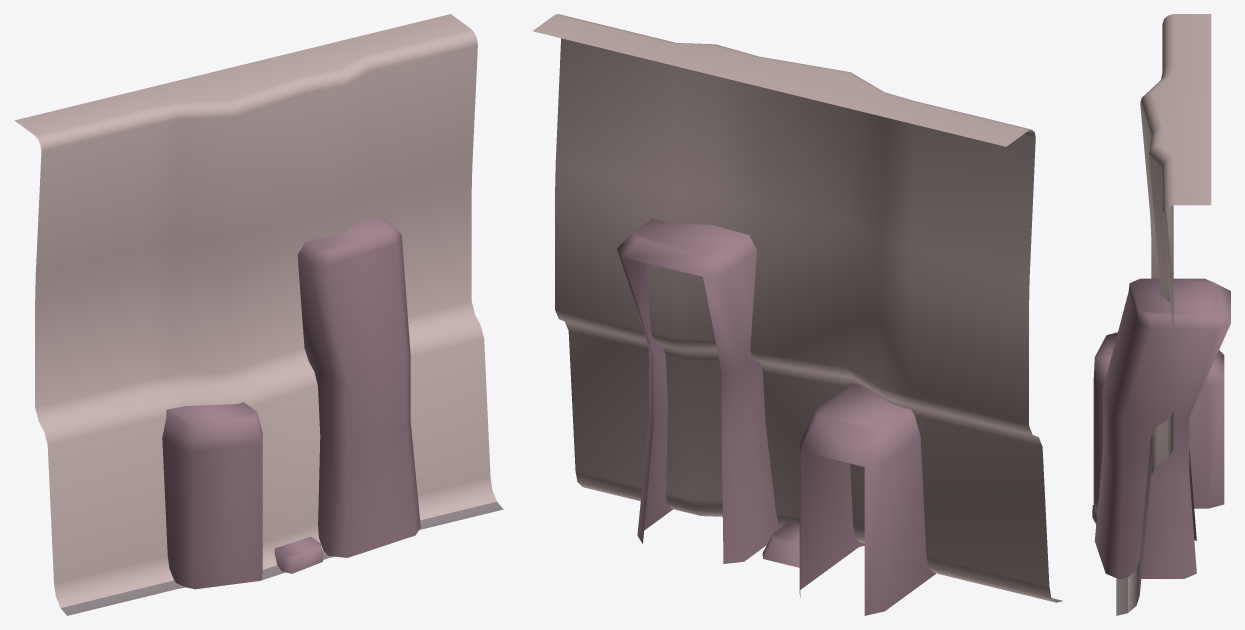
File: 1_Wall_3.glb
3 views of the same model, side by side, from view 1: azimuth 30°, elevation 25°; view 2: azimuth 150°, elevation 25°; view 3: azimuth 270°, elevation 25° (orthographic). The views are drawn at different scales.
Parts seen in each view (by area): view 1: 1_Wall3; view 2: 1_Wall3; view 3: 1_Wall3.
Part boxes in pixels (<box>): 1_Wall3: <box>14,14,503,615</box>; 1_Wall3: <box>533,14,1062,615</box>; 1_Wall3: <box>1092,14,1230,615</box>.
Size of the model in its own units: 4 by 4 by 1.23.
